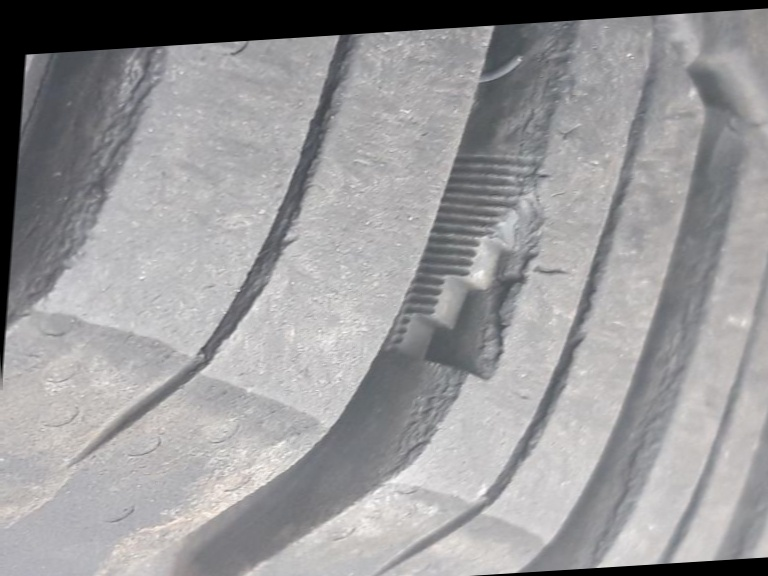temoin:80: (361, 140, 573, 402)
